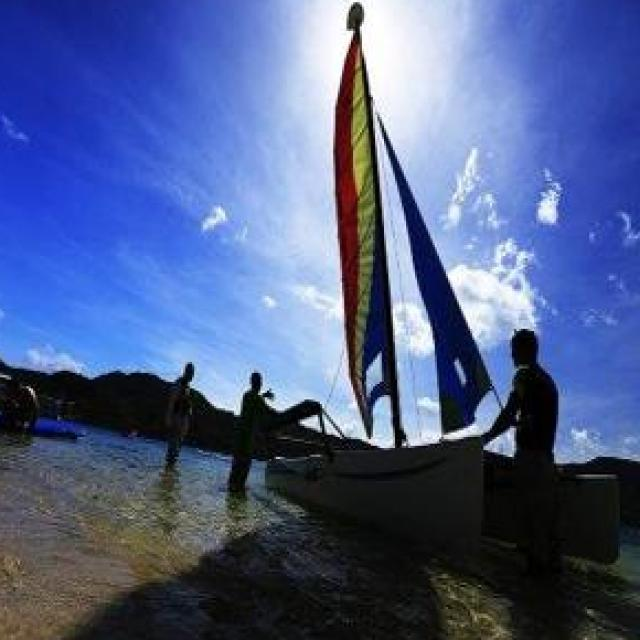sailboat: (262, 0, 614, 541)
